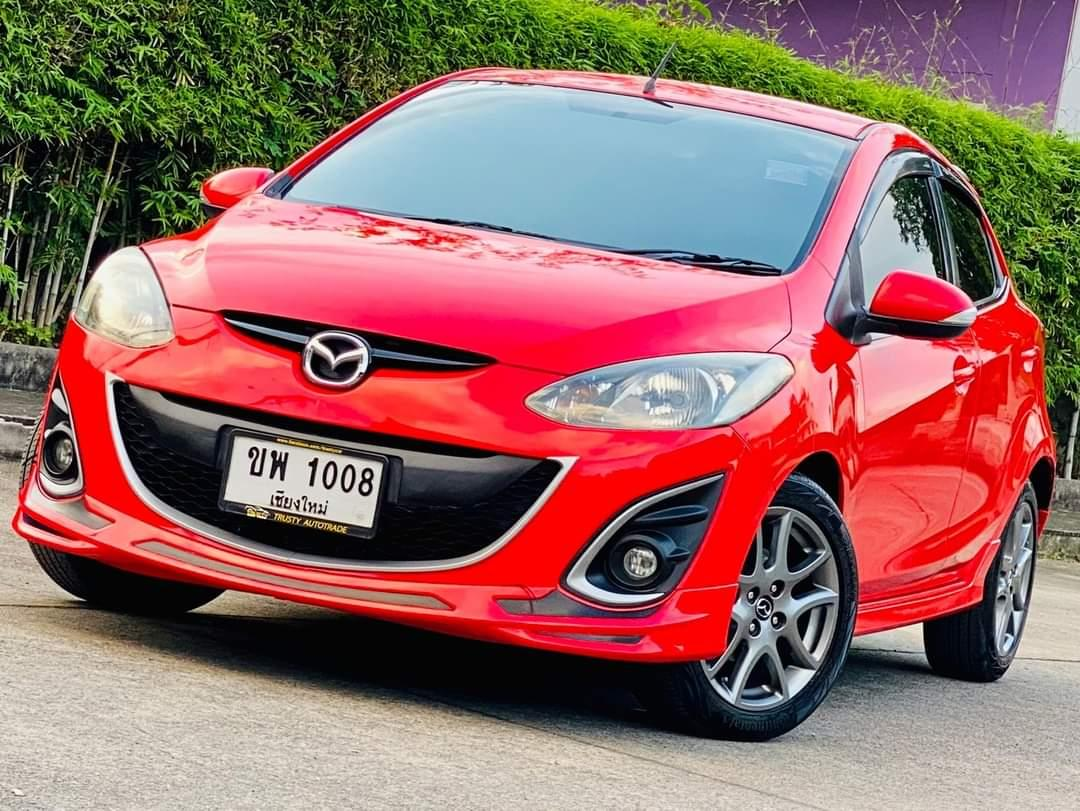license-plate: (209, 421, 397, 542)
